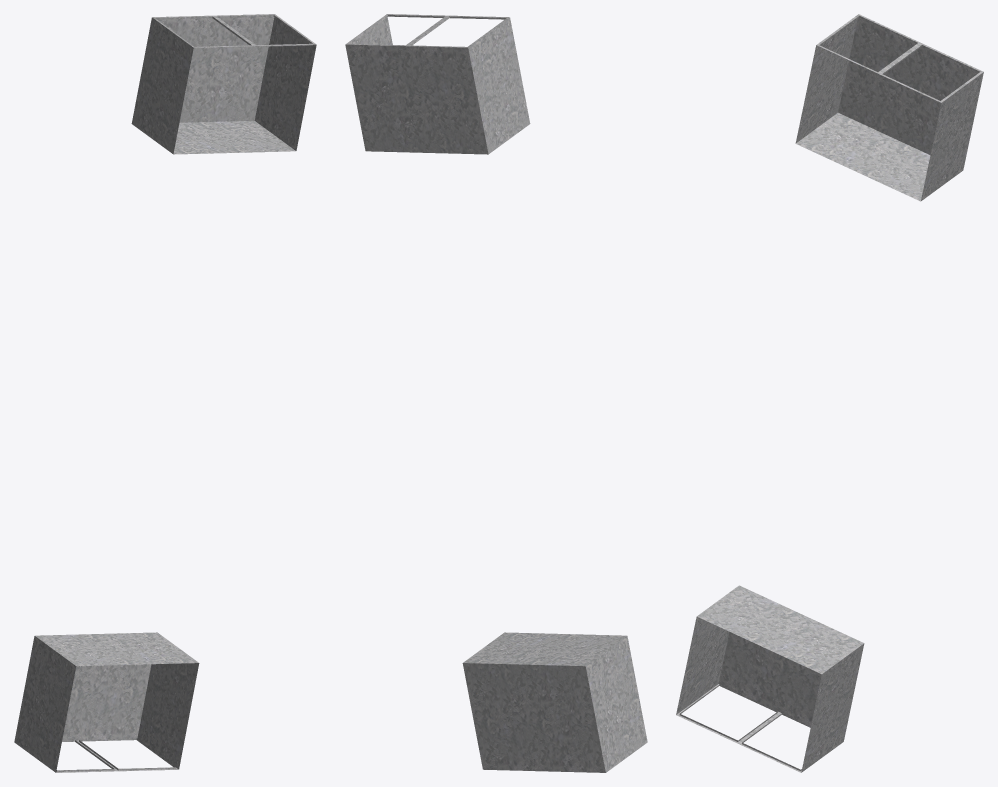
File: _0PITBOX_BUILDING01_01_SUB2_Scene.065.obj
The picture shows the model from 3 angles, left to right: view 1: azimuth 30°, elevation 25°; view 2: azimuth 150°, elevation 25°; view 3: azimuth 330°, elevation 25°; orthographic projection.
Parts seen in each view (by area): view 1: _0PITBOX_BUILDING01_01_SUB2_Scene.065; view 2: _0PITBOX_BUILDING01_01_SUB2_Scene.065; view 3: _0PITBOX_BUILDING01_01_SUB2_Scene.065.
Part boxes in pixels (x1=…): _0PITBOX_BUILDING01_01_SUB2_Scene.065: x1=14, y1=14, x2=316, y2=772; _0PITBOX_BUILDING01_01_SUB2_Scene.065: x1=345, y1=14, x2=647, y2=772; _0PITBOX_BUILDING01_01_SUB2_Scene.065: x1=676, y1=14, x2=983, y2=772.
Size of the model in its own units: 6.18 by 16.28 by 1.72.
